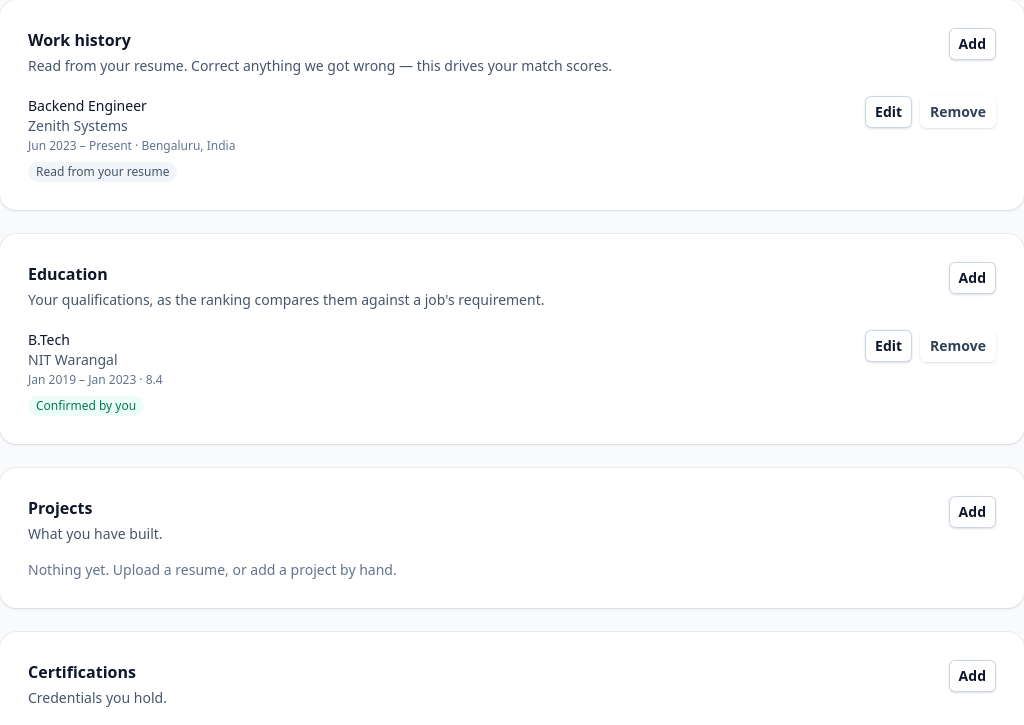
Test: CareerProfile › editing › surfaces a validation message from the server
Check: the text "Backend Engineer" is shown, box 28,96 -> 147,115
Click the button "Edit" in the row of "Backend Engineer" at (889, 112), box 865,96 -> 912,128
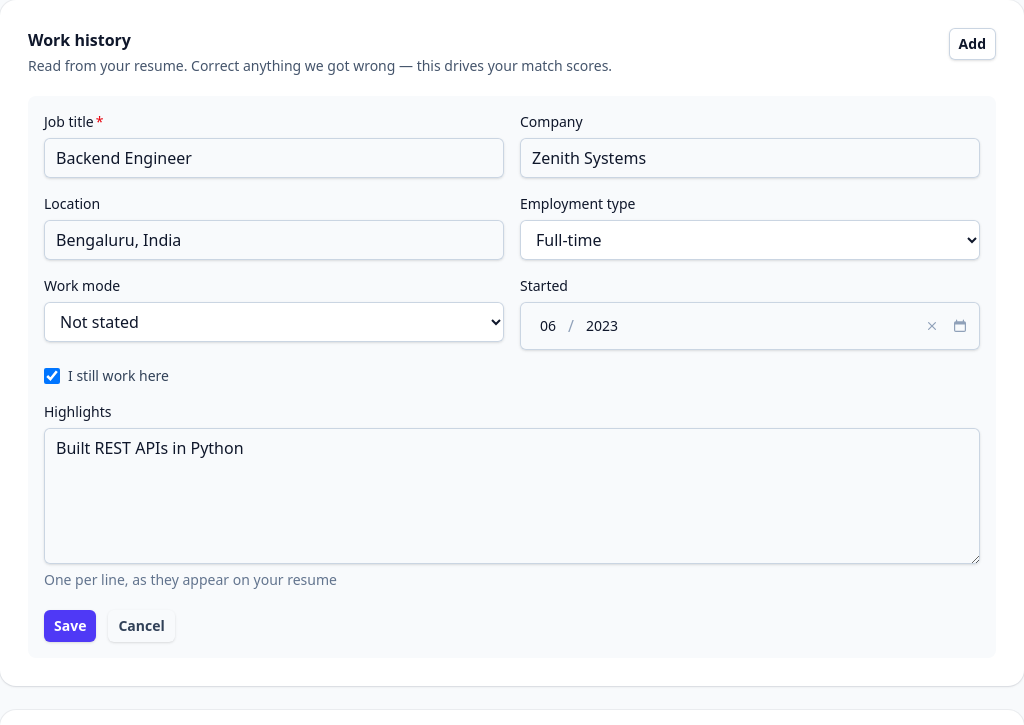
Click the button "Save" at (70, 626), box 44,610 -> 96,642
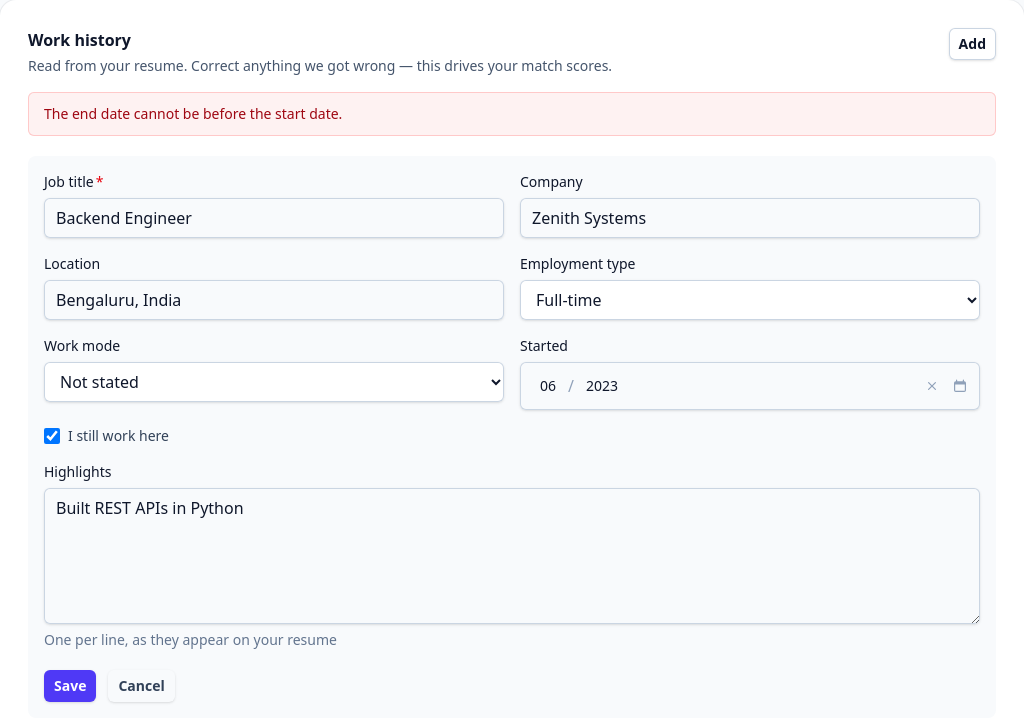
Check: the message reads "The end date cannot be before the start date.", box 44,104 -> 342,123
